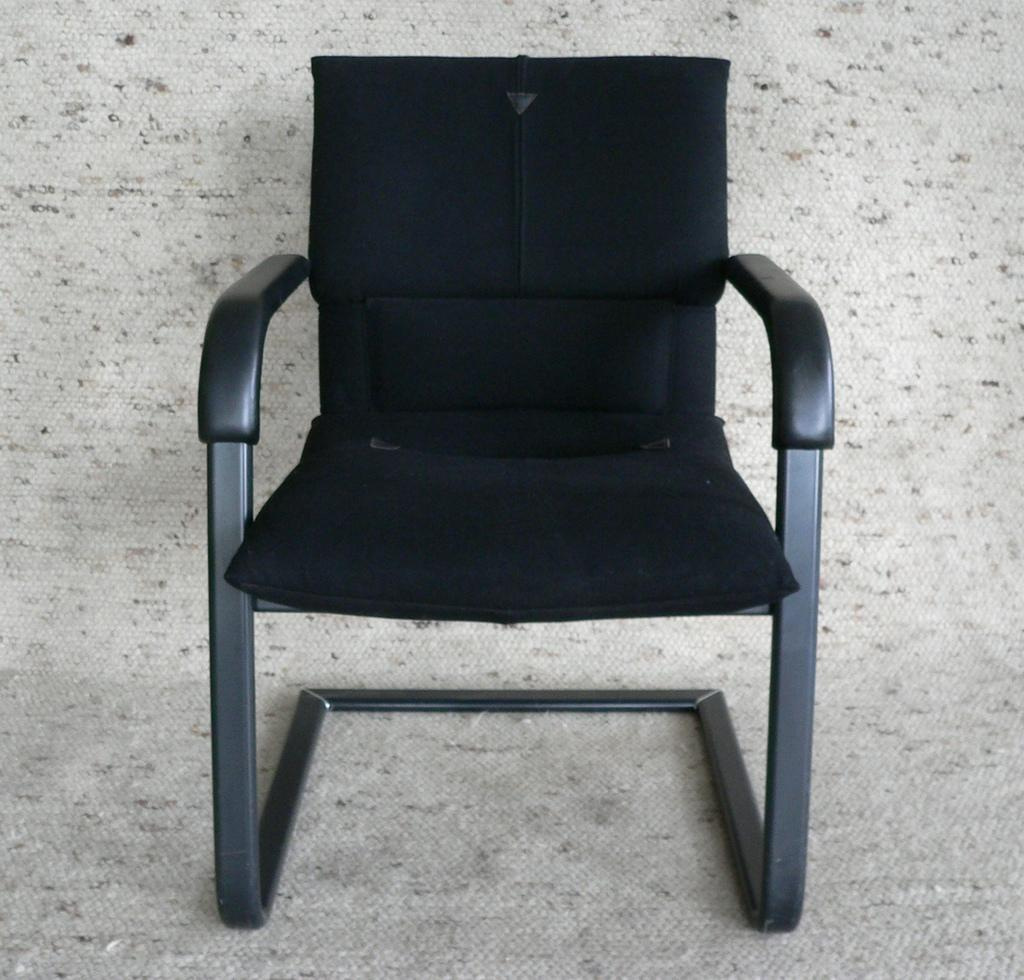Chair: (197, 47, 833, 932)
